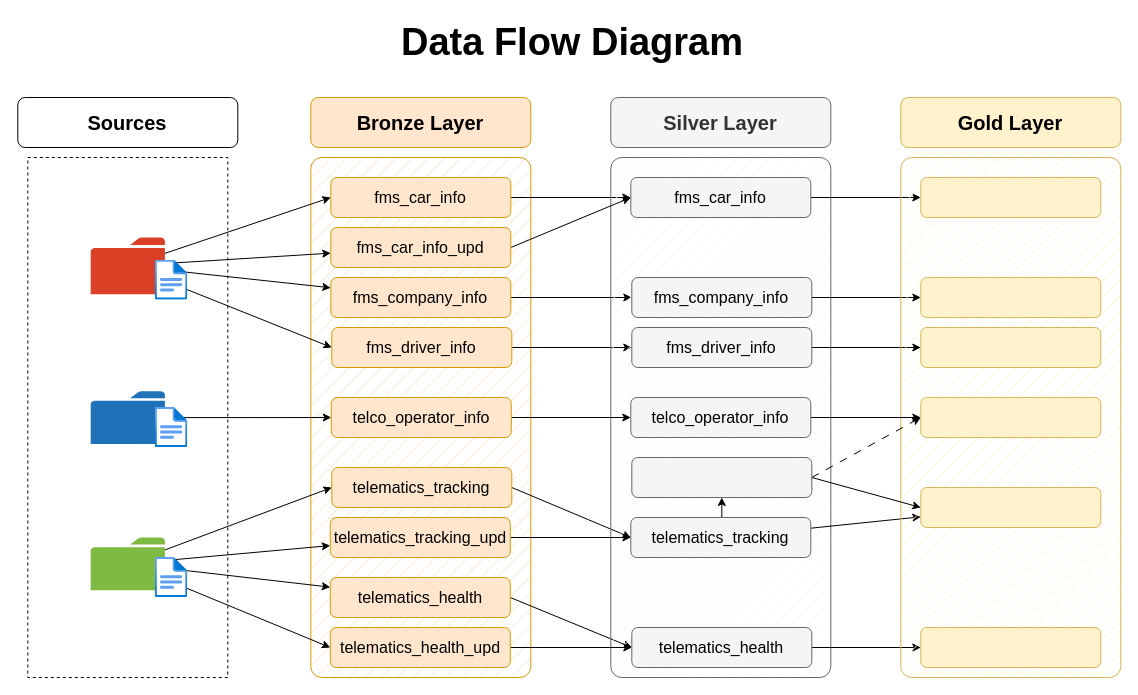
The diagram is 1138 pixels wide and 695 high, and some of its shapes have lost their labels. Each missing label, with the centre of its shape:
dim_company: point 1010,297
dim_drivers: point 1010,347
dim_roaming_network: point 1010,417
dim_vehicle: point 1010,197
fact_device_health: point 1010,647
fact_tracking: point 1010,507
FMS: point 127,265
ref_geo_enrichment: point 721,477
TELCO: point 127,417
TELEMATICS: point 127,563
